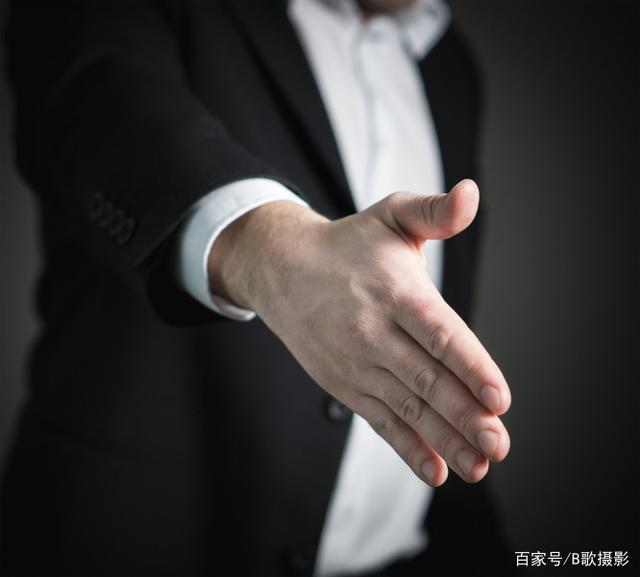no-phone: (243, 178, 514, 490)
